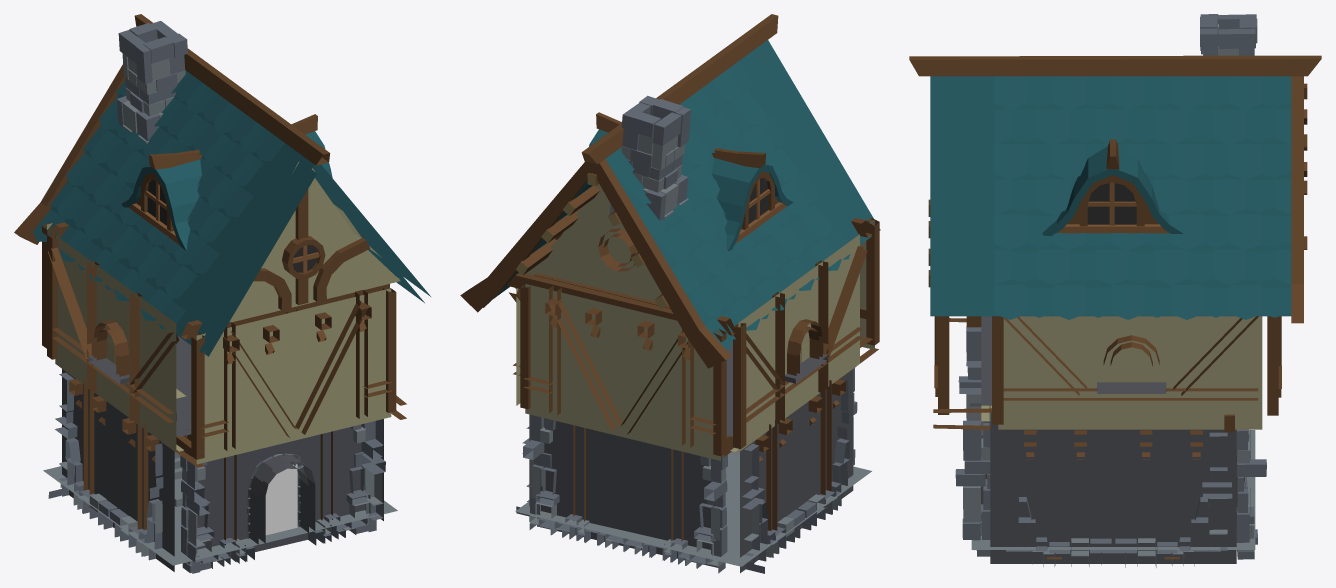
Rendered from AlbyHouseInside.glb.
3 renders of one model, left to right at view 1: azimuth 30°, elevation 25°; view 2: azimuth 150°, elevation 25°; view 3: azimuth 270°, elevation 25°, orthographic. The views are drawn at different scales.
Parts seen in each view (by area): view 1: House_1_Cube.011, House_1_Cube.005, House_1_Cube.001, House_1_Cube.006, House_1_Cube.004, House_1_Cube.010, Floor_first, TransferArea_MainWorld, Floor_second, House_1_Cube.008; view 2: House_1_Cube.011, House_1_Cube.008, House_1_Cube.002, House_1_Cube.006, House_1_Cube.004, House_1_Cube.009, Floor_first, House_1_Cube.005, House_1_Cube.007, Floor_second; view 3: House_1_Cube.011, House_1_Cube.003, House_1_Cube.007, House_1_Cube.001, House_1_Cube.002, House_1_Cube.005, Floor_first, House_1_Cube.008, Floor_second.
Part boxes in pixels (x1=…): House_1_Cube.011: x1=14, y1=14, x2=430, y2=356; House_1_Cube.005: x1=181, y1=285, x2=396, y2=464; House_1_Cube.001: x1=162, y1=395, x2=406, y2=573; House_1_Cube.006: x1=47, y1=234, x2=179, y2=451; House_1_Cube.004: x1=48, y1=369, x2=191, y2=571; House_1_Cube.010: x1=229, y1=162, x2=400, y2=322; Floor_first: x1=43, y1=466, x2=397, y2=565; TransferArea_MainWorld: x1=265, y1=464, x2=297, y2=535; Floor_second: x1=176, y1=335, x2=191, y2=451; House_1_Cube.008: x1=42, y1=222, x2=68, y2=348; House_1_Cube.011: x1=460, y1=14, x2=880, y2=368; House_1_Cube.008: x1=520, y1=273, x2=734, y2=460; House_1_Cube.002: x1=523, y1=414, x2=727, y2=573; House_1_Cube.006: x1=733, y1=234, x2=867, y2=452; House_1_Cube.004: x1=722, y1=369, x2=853, y2=573; House_1_Cube.009: x1=526, y1=184, x2=661, y2=301; Floor_first: x1=515, y1=453, x2=871, y2=566; House_1_Cube.005: x1=851, y1=218, x2=879, y2=349; House_1_Cube.007: x1=509, y1=288, x2=520, y2=405; Floor_second: x1=726, y1=341, x2=738, y2=451; House_1_Cube.011: x1=909, y1=14, x2=1321, y2=323; House_1_Cube.003: x1=990, y1=412, x2=1236, y2=567; House_1_Cube.007: x1=992, y1=316, x2=1262, y2=429; House_1_Cube.001: x1=933, y1=318, x2=991, y2=556; House_1_Cube.002: x1=1224, y1=414, x2=1266, y2=559; House_1_Cube.005: x1=928, y1=199, x2=949, y2=414; Floor_first: x1=971, y1=430, x2=1255, y2=549; House_1_Cube.008: x1=1267, y1=316, x2=1281, y2=415; Floor_second: x1=981, y1=316, x2=991, y2=421.
Size of what is drawn, in the model's own units: 28.08 by 44.06 by 34.55.
